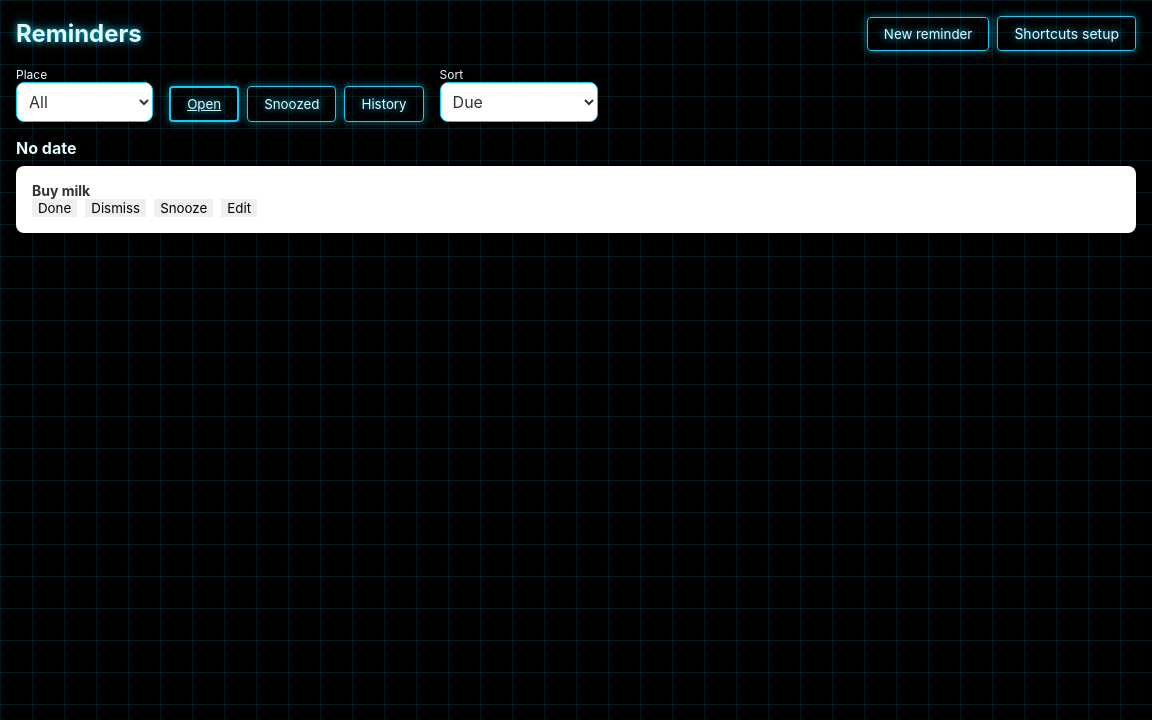
RemindersPage › Snooze opens the dialog and sends a future ISO instant, then closes
What coordinates should you click on to do the following:
click the button "Snooze"
I would click on:
 (184, 208)
Its box is [154,199,213,217].
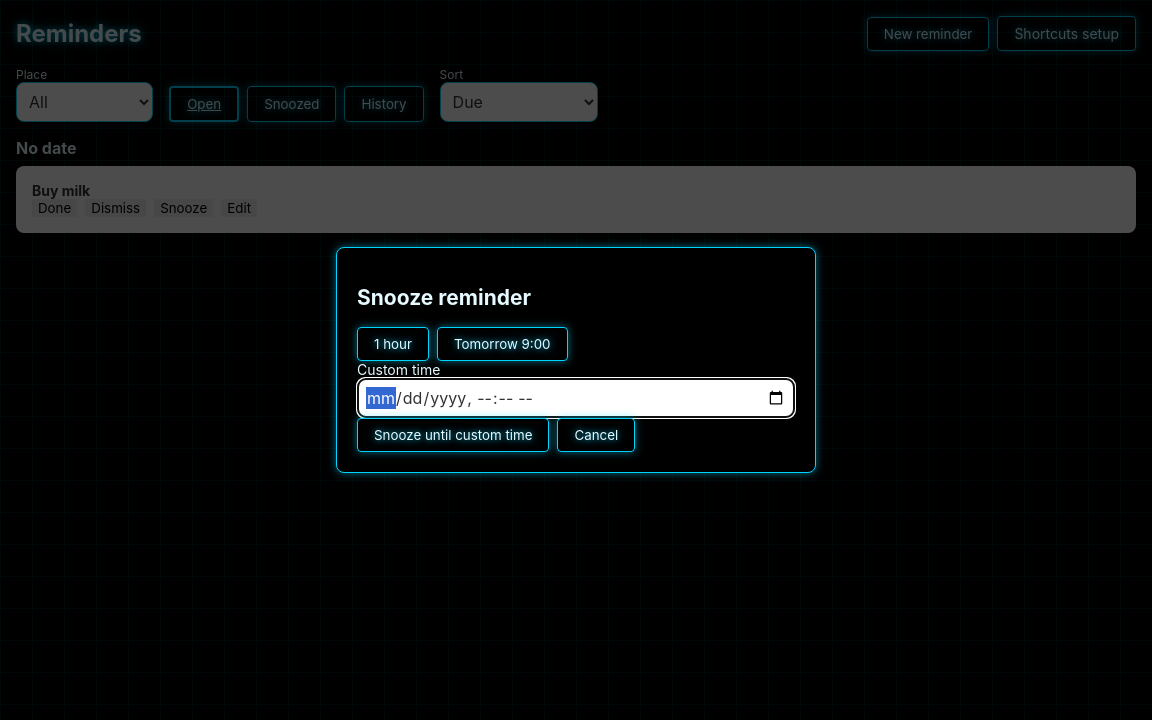
What coordinates should you click on to do the following:
click the button "1 hour"
I would click on:
 (393, 344)
Its box is [357,327,429,361].
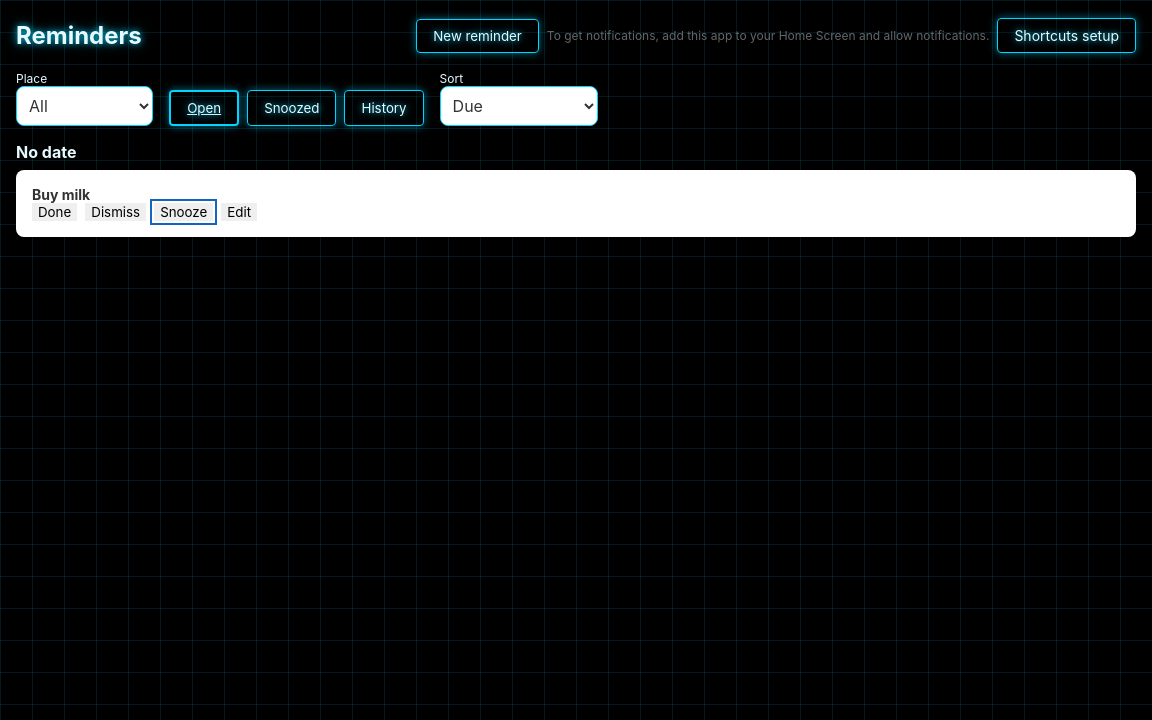
Check: the dialog is gone
